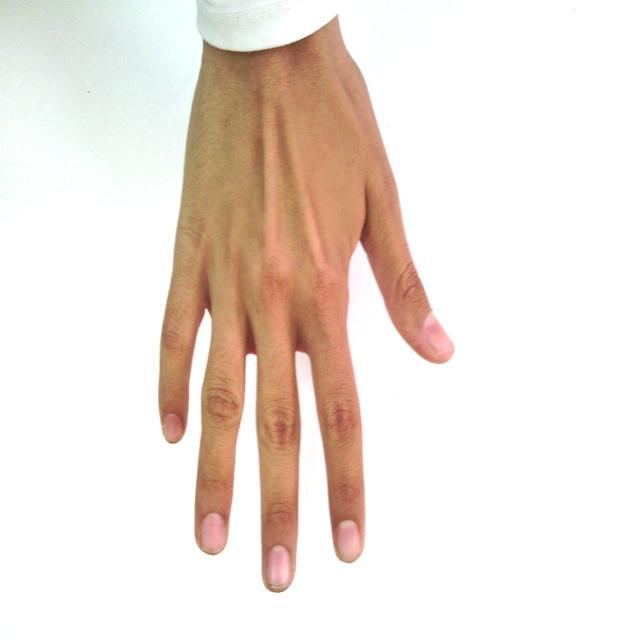Fingernail: (425, 313, 456, 355), (200, 513, 225, 554), (337, 520, 361, 561), (267, 546, 290, 586), (164, 414, 184, 442)
